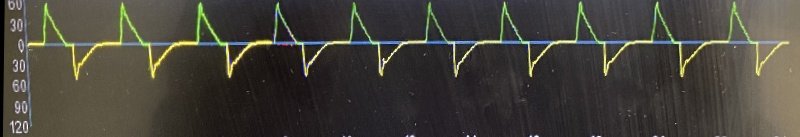normal_flow: (11, 0, 800, 85)
